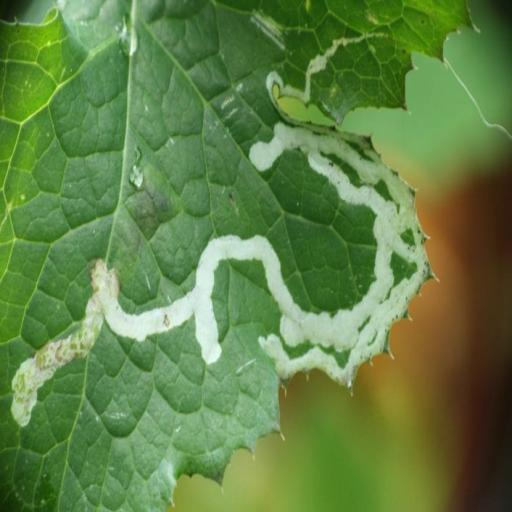disease_tomato: (0, 0, 479, 512)
